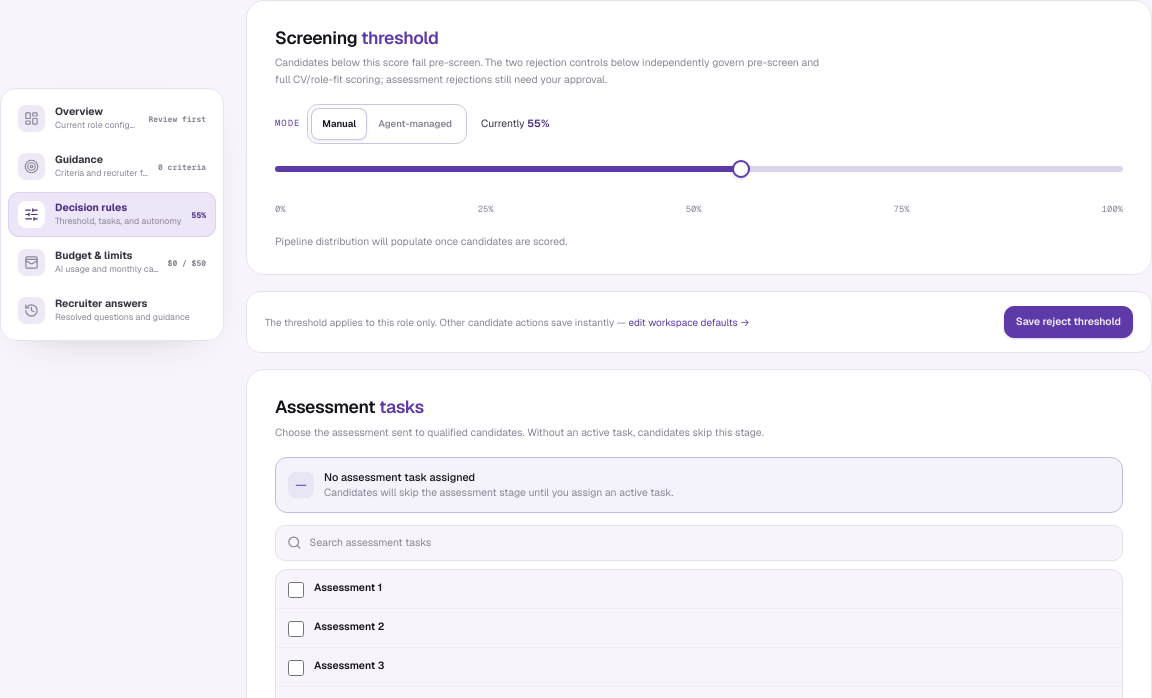
Test: RoleAgentSettingsTab assessment task › adds search when the task library is long
Type "Assessment 7" into the search field labelled "Search assessment tasks" at (710, 543), box [310, 535, 1111, 551]
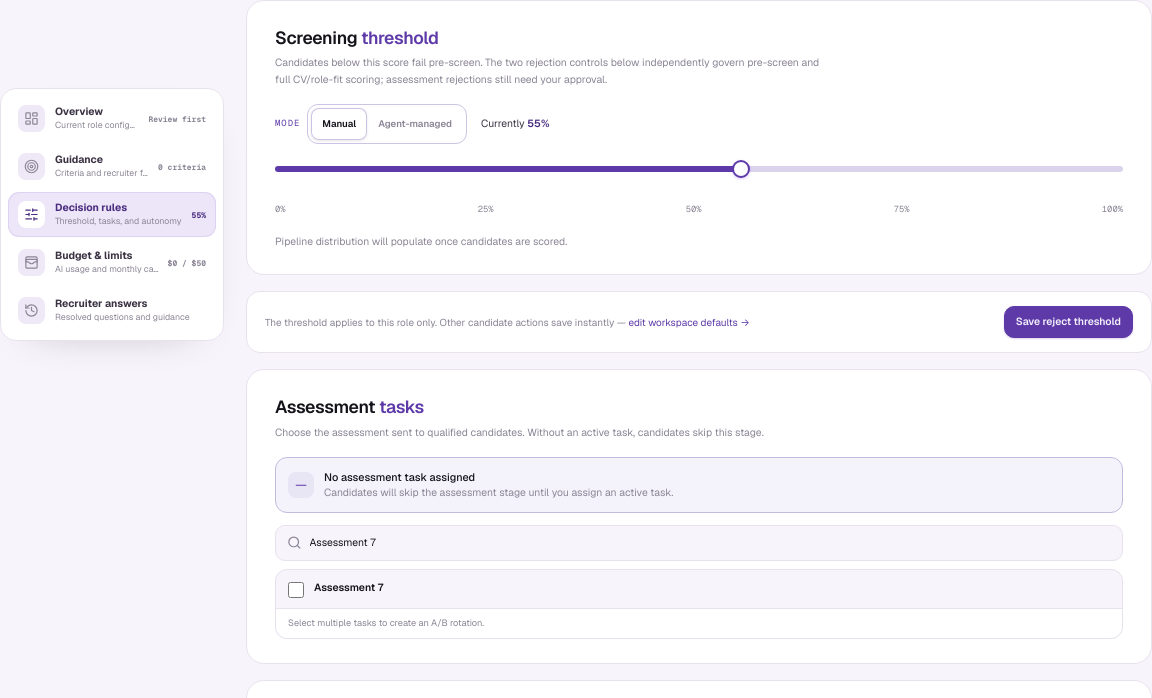
Expected: the checkbox labelled "Assessment 7" is shown, [288, 582, 304, 598]
Expected: the text "Assessment 1" is gone
